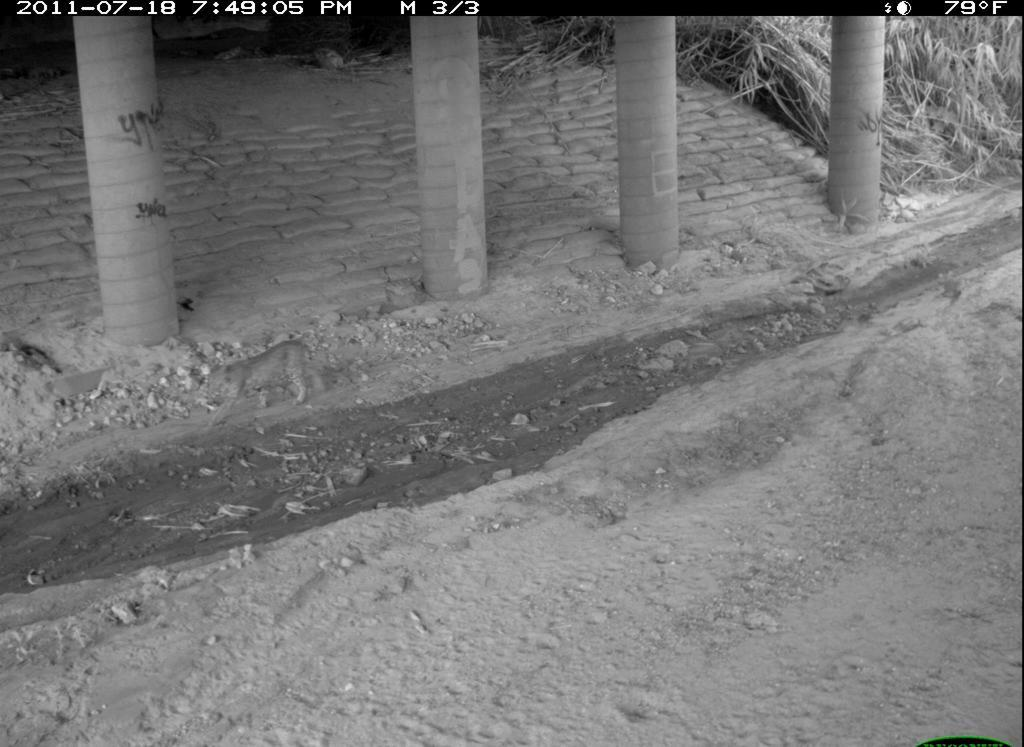bobcat: (405, 667, 661, 747)
